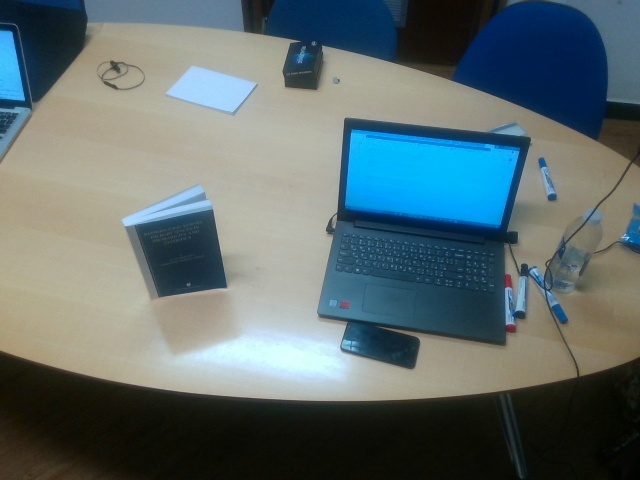book: (123, 187, 226, 302)
